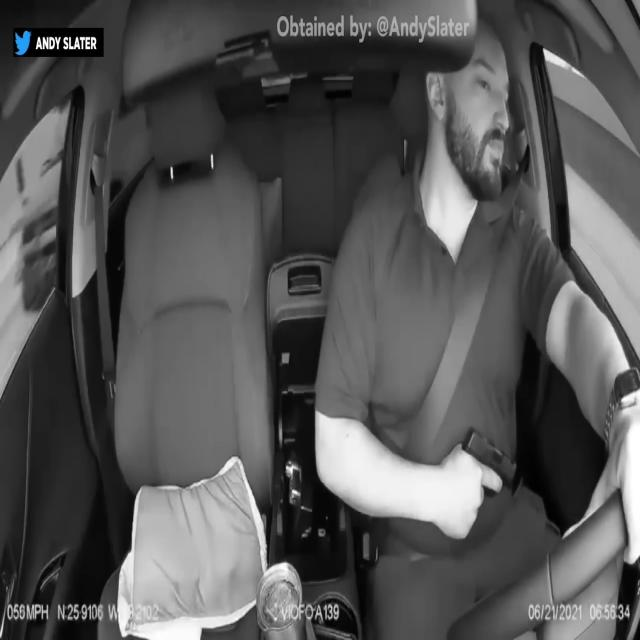senjata_api: (462, 426, 518, 499)
